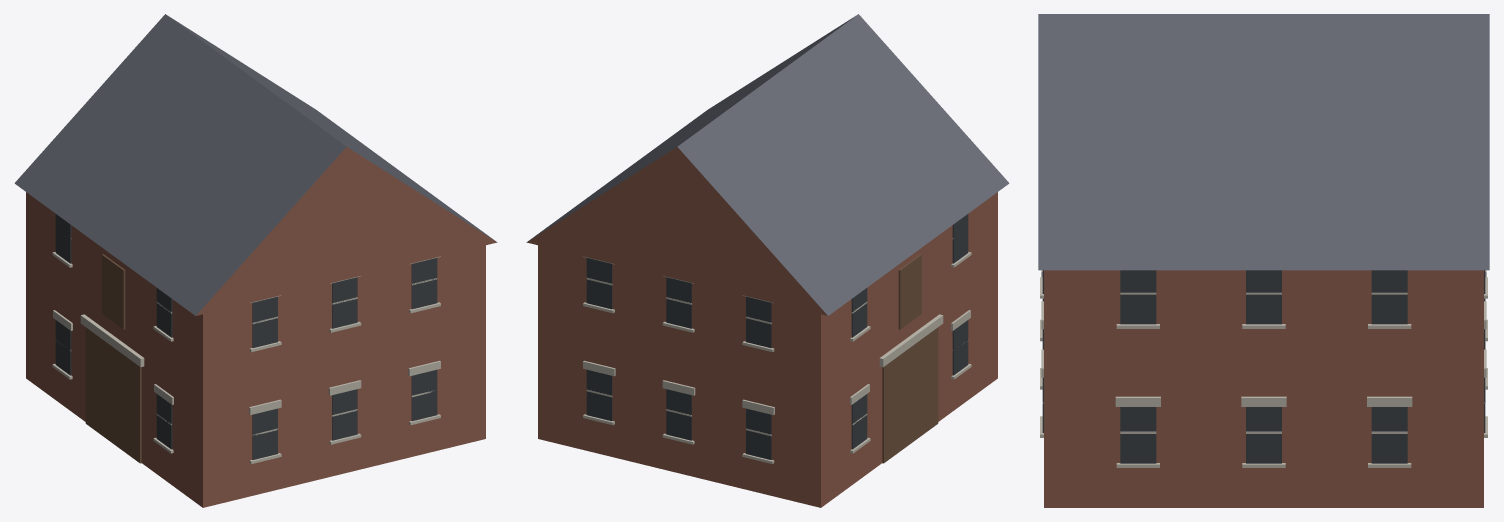
File: coleman_ames_house_1811_prairie_coach_house__draft_1904.glb
3 renders of one model, left to right at view 1: azimuth 30°, elevation 25°; view 2: azimuth 150°, elevation 25°; view 3: azimuth 270°, elevation 25°, orthographic. The views are drawn at different scales.
Visible parts, largest first — view 1: coleman_ames_house_1811_prairie_coach_house__draft_1904; view 2: coleman_ames_house_1811_prairie_coach_house__draft_1904; view 3: coleman_ames_house_1811_prairie_coach_house__draft_1904.
Part boxes in pixels (<box>): coleman_ames_house_1811_prairie_coach_house__draft_1904: <box>14,14,497,507</box>; coleman_ames_house_1811_prairie_coach_house__draft_1904: <box>526,14,1009,507</box>; coleman_ames_house_1811_prairie_coach_house__draft_1904: <box>1038,14,1489,507</box>.
Size of the model in its own units: 9.6 by 9.98 by 9.99.
